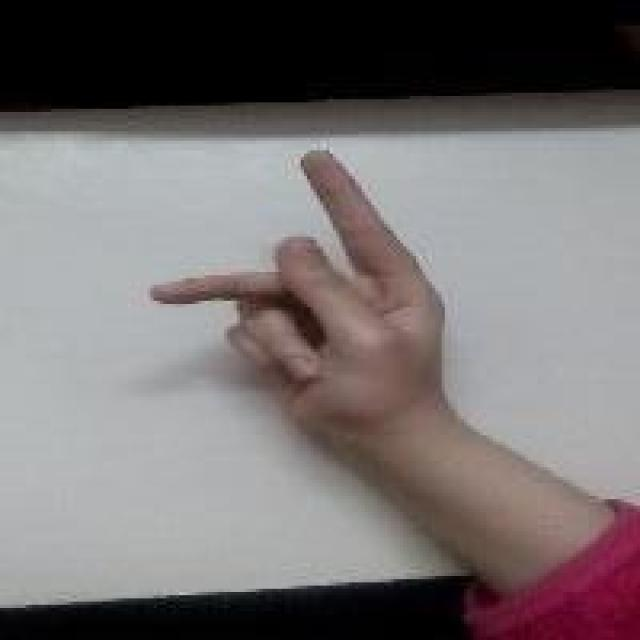K: (150, 144, 448, 454)
